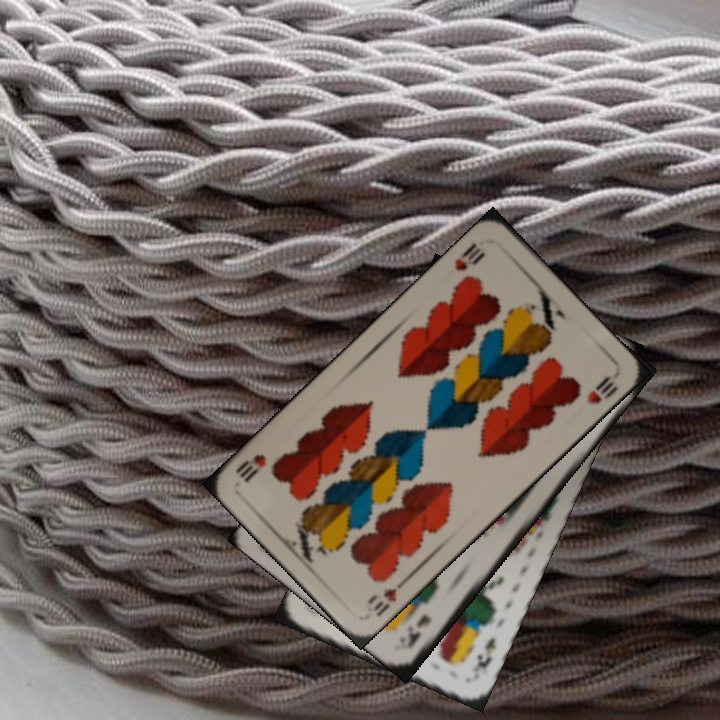EK: (403, 610, 434, 651), (473, 633, 499, 671)
H10: (363, 573, 410, 620), (450, 238, 488, 274)
